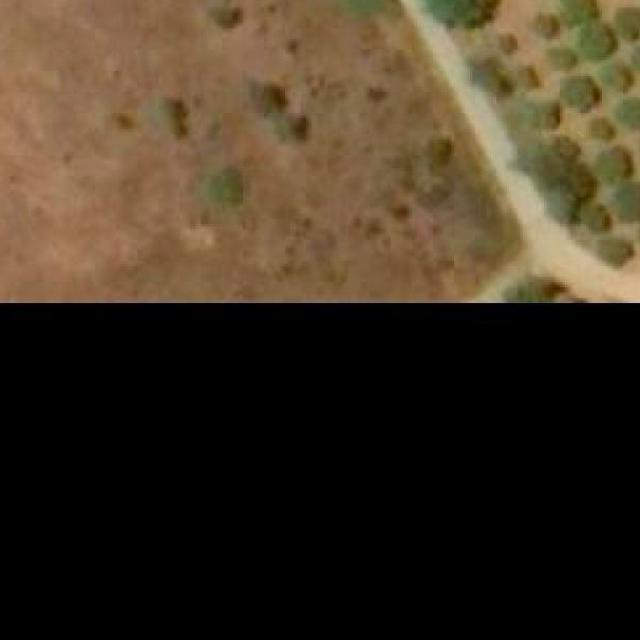Tree: (516, 129, 581, 183), (419, 0, 498, 34), (465, 55, 515, 102), (150, 93, 192, 146), (503, 272, 565, 306), (207, 161, 248, 209), (597, 148, 639, 185), (541, 189, 580, 226), (581, 23, 618, 60), (607, 182, 640, 222), (203, 0, 243, 33), (250, 78, 285, 113), (279, 110, 311, 146), (518, 100, 560, 127), (570, 76, 600, 108), (551, 44, 586, 69), (565, 0, 602, 23), (424, 134, 454, 162), (602, 238, 634, 264), (581, 201, 607, 232), (618, 5, 640, 40), (602, 63, 632, 88), (495, 29, 520, 58), (618, 97, 640, 129), (572, 169, 594, 201), (535, 13, 562, 39), (588, 116, 613, 137)
